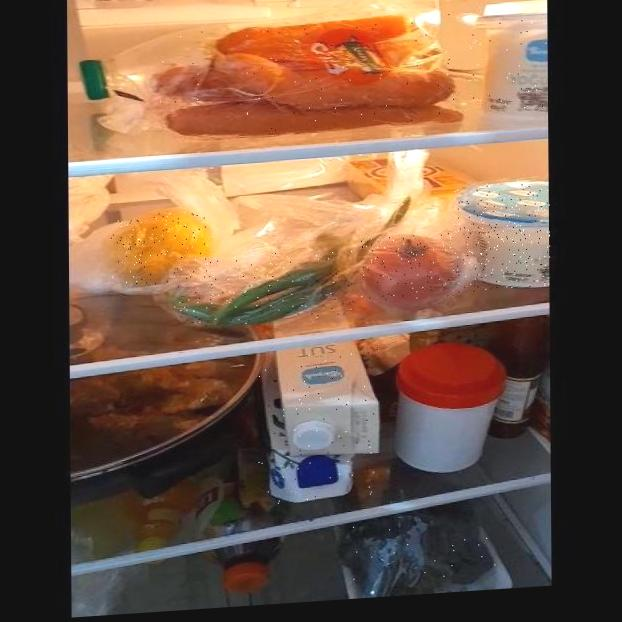broccoli: (333, 515, 495, 597)
carrot: (156, 13, 454, 138)
green chilies: (174, 247, 355, 330)
lemon: (111, 210, 213, 287)
milk: (258, 346, 380, 506)
tomato: (360, 233, 456, 302)
yoghurt: (454, 179, 550, 293), (470, 10, 548, 115)
